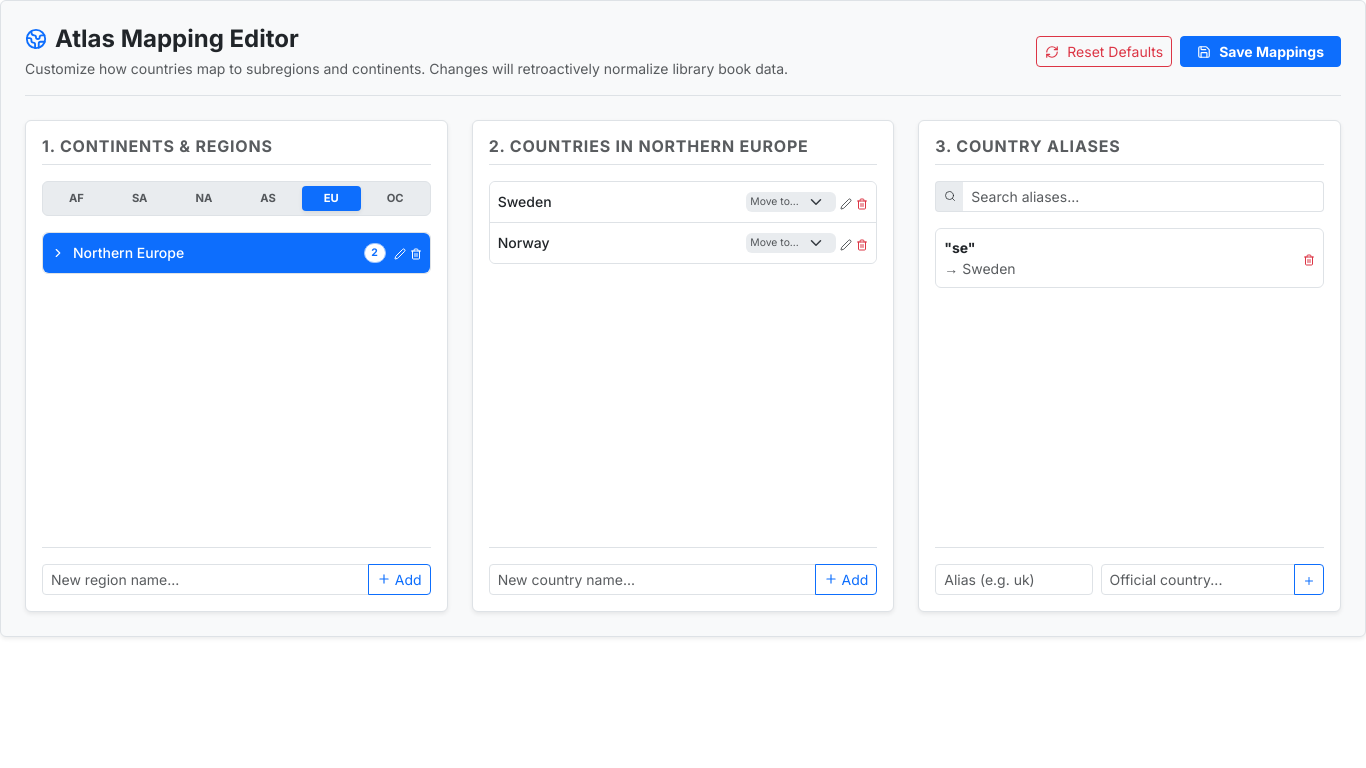
MappingsEditor Component › allows renaming a region
The width and height of the screenshot is (1366, 768).
Note: Encontra o botão de editar da região a partir do data-testid
Click the button with test id "edit-region-Northern Europe".
click(400, 253)  # box [394,241,406,265]
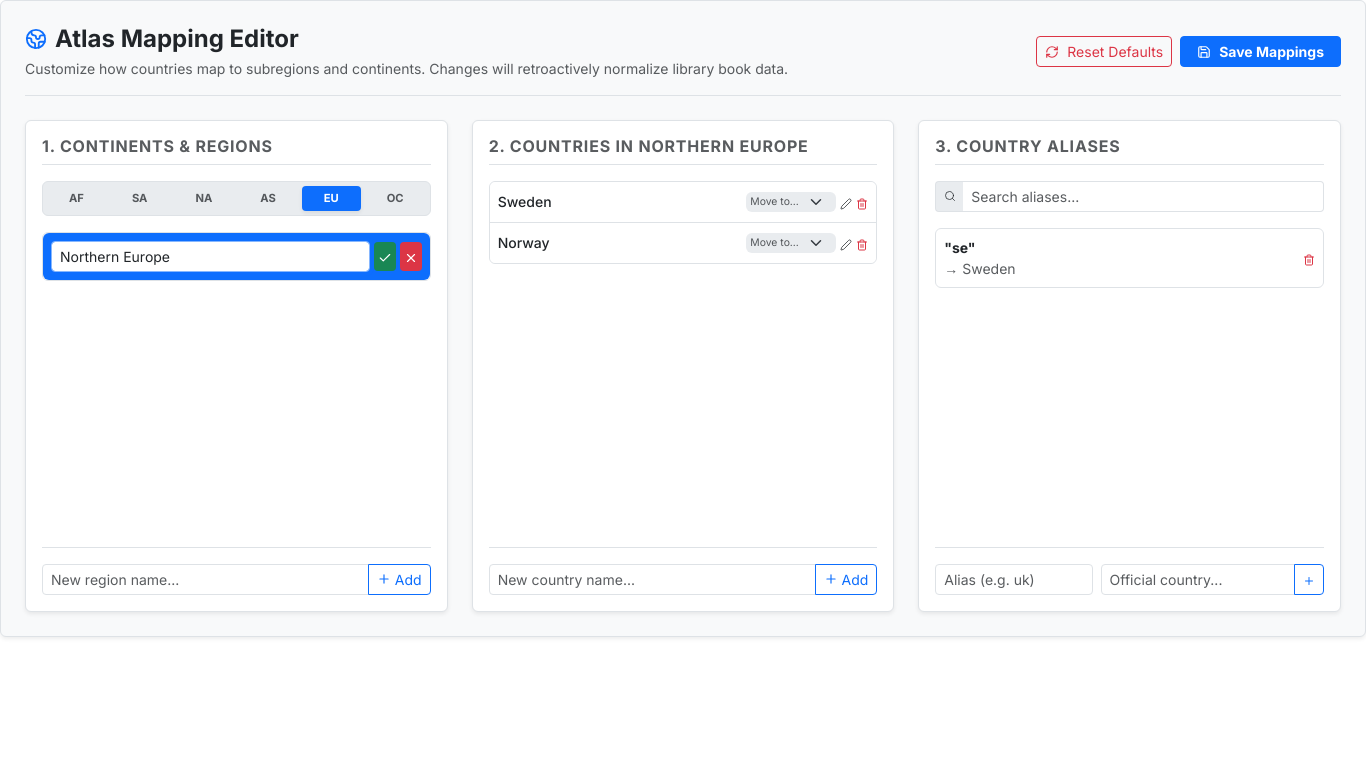
Replace the text in the field showing "Northern Europe" with "Nordic Region" at (210,256), box [51,241,370,272]
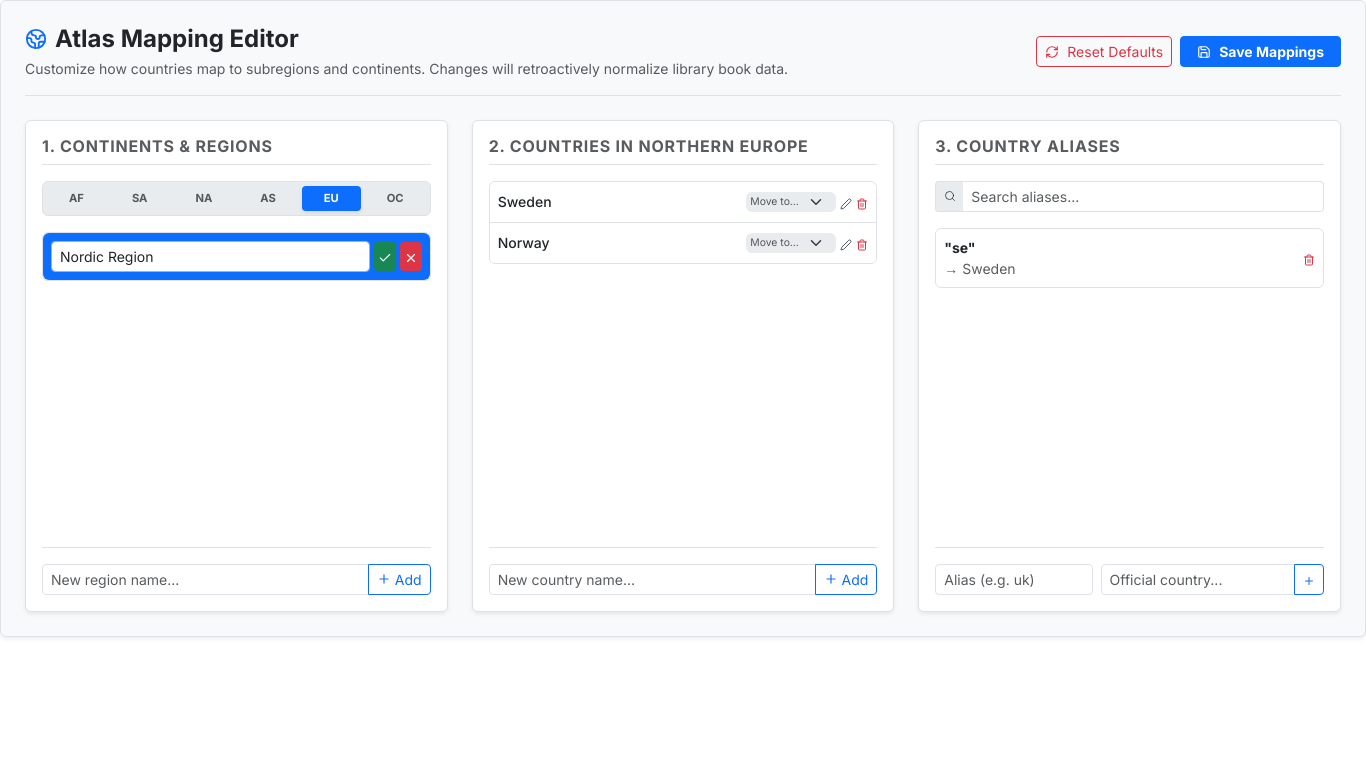
Note: Clica no botão de confirmar via testid
Click the button with test id "confirm-edit-region".
click(385, 256)  # box [374,242,396,271]
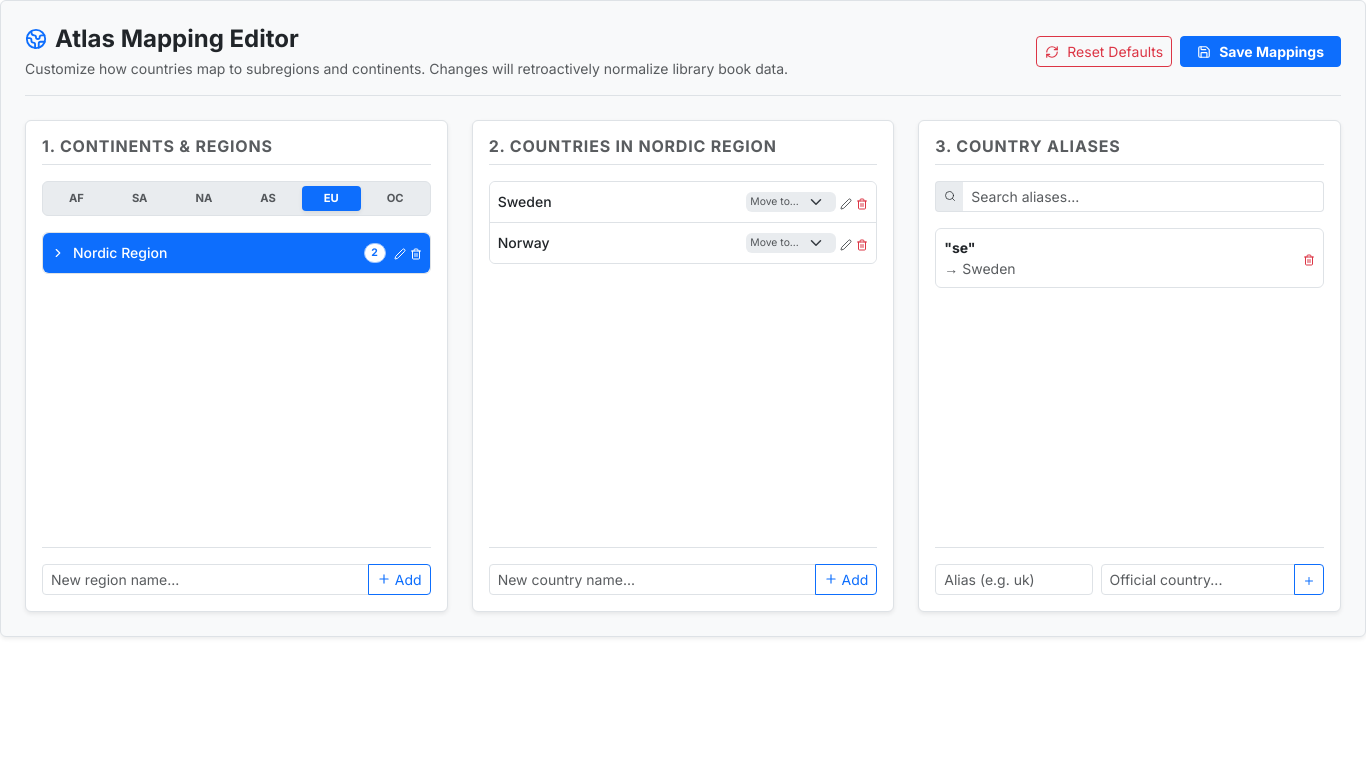
expect the text "Nordic Region" is shown: met, box [73,242,167,263]
